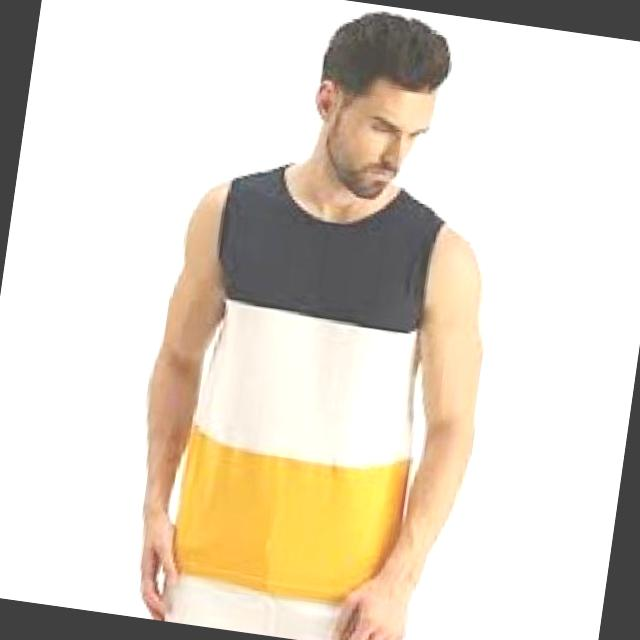no_vest: (164, 150, 456, 613)
